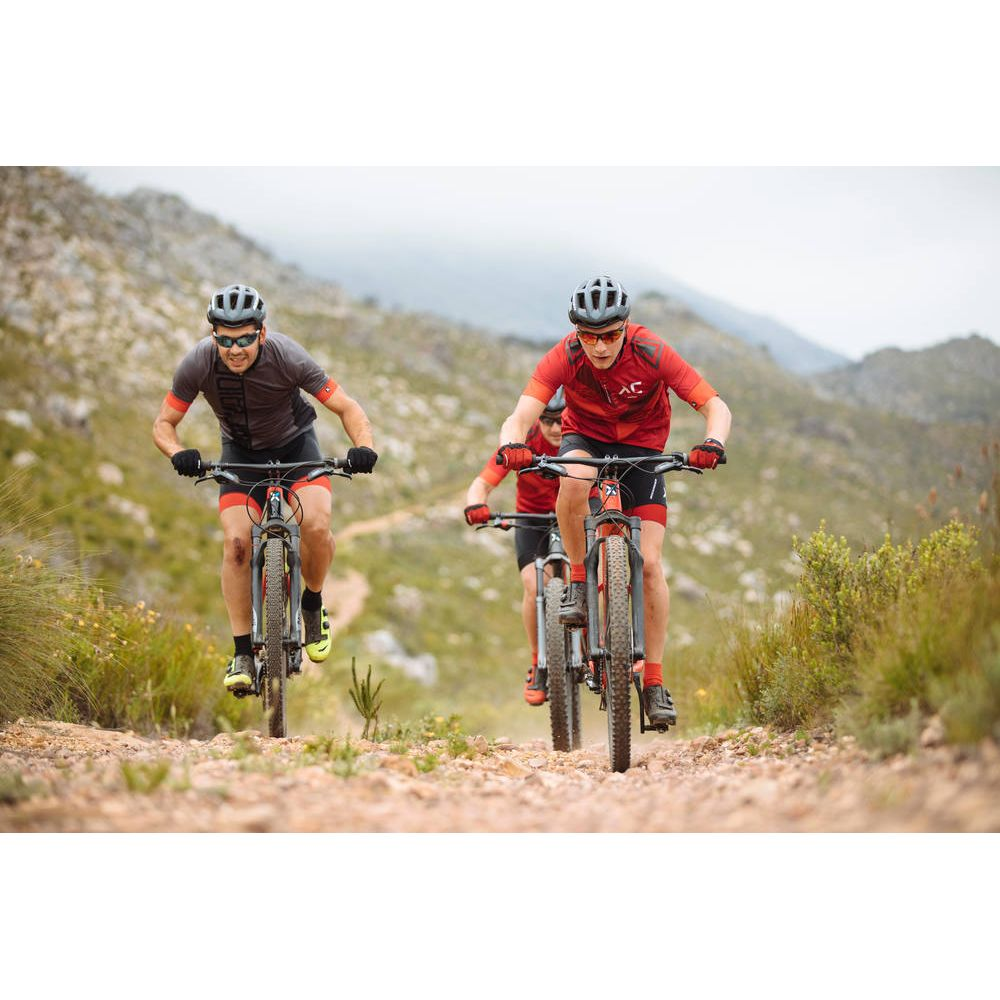MountainBike: (491, 440, 729, 763), (165, 440, 378, 755), (460, 499, 613, 747)
